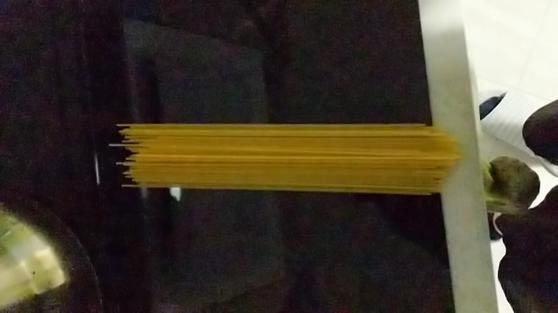spaghetti: (102, 107, 479, 205)
